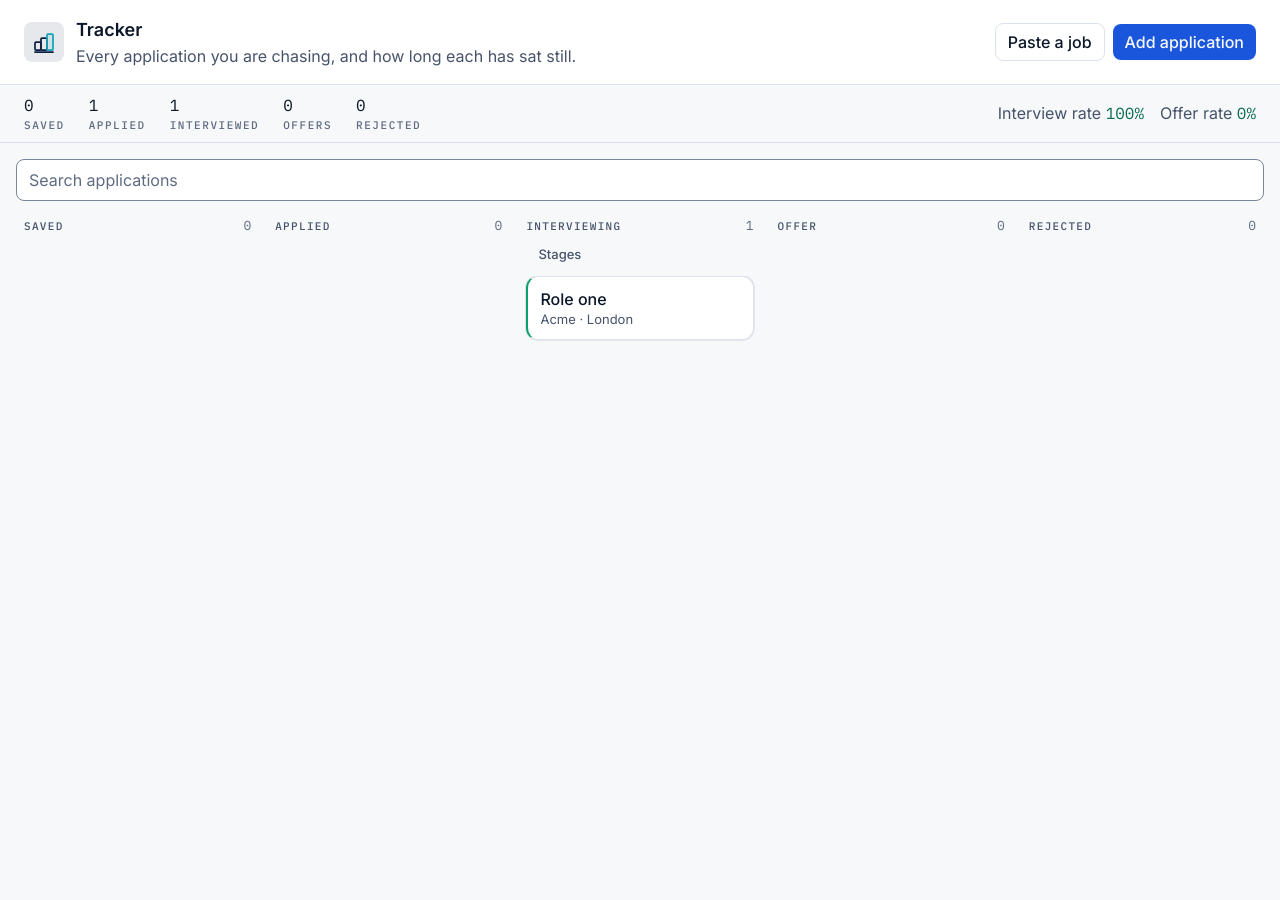
Test: the sub-stage editor › rejects a duplicate name
expect the element with test id "tracker-column-interviewing" is shown: met, box 518,208 -> 762,348
Click the button with test id "tracker-edit-substages" at [560, 256], box 526,240 -> 593,270
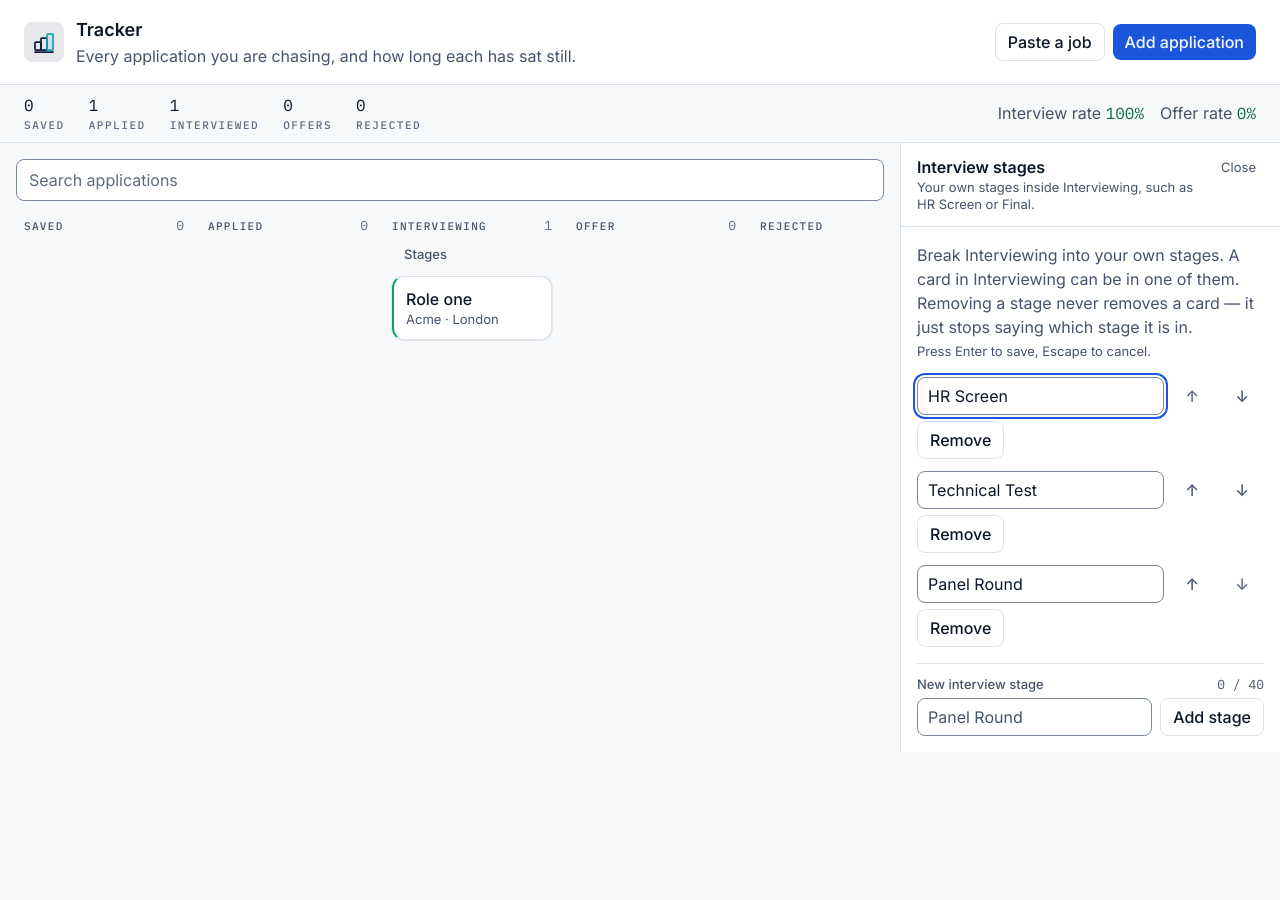
Type "hr screen" into the field labelled "New interview stage" at [1035, 717], box 917,698 -> 1152,736
Then press Enter
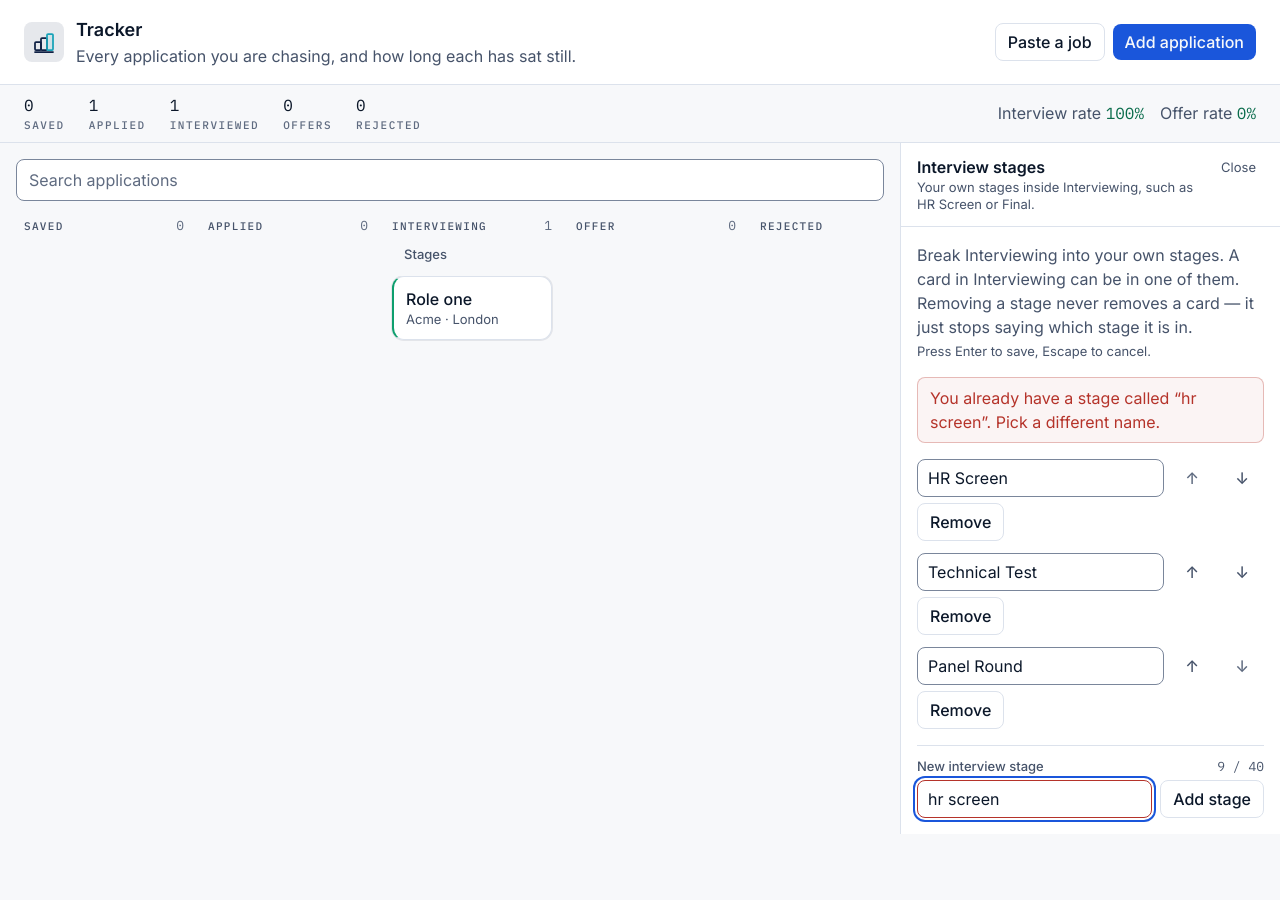
expect the message with test id "substage-error" shows "already": met, box 930,388 -> 1196,432
